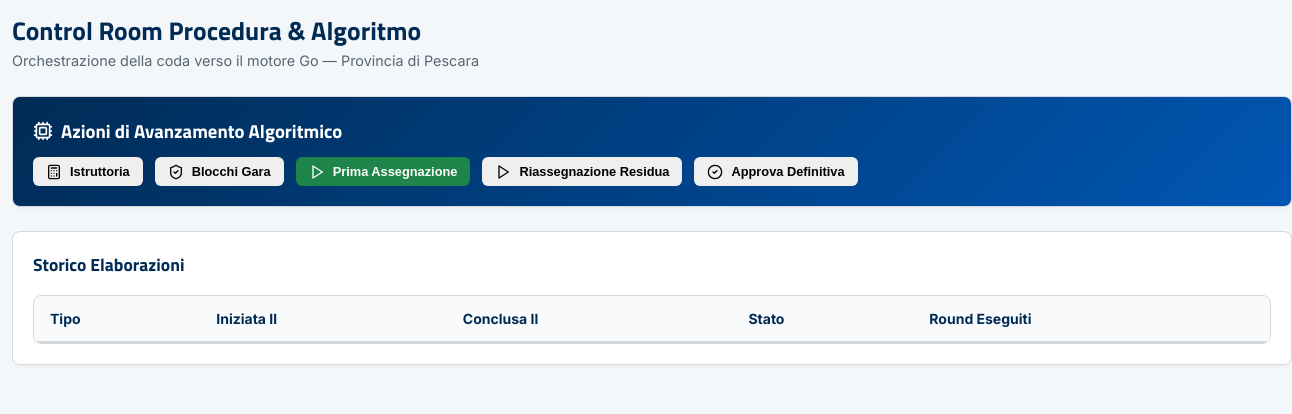
Test: ControlRoomView › esegue istruttoria e mostra il risultato
The image size is (1292, 414).
Click the button "Istruttoria". click: (88, 172)
box: [33, 157, 143, 186]
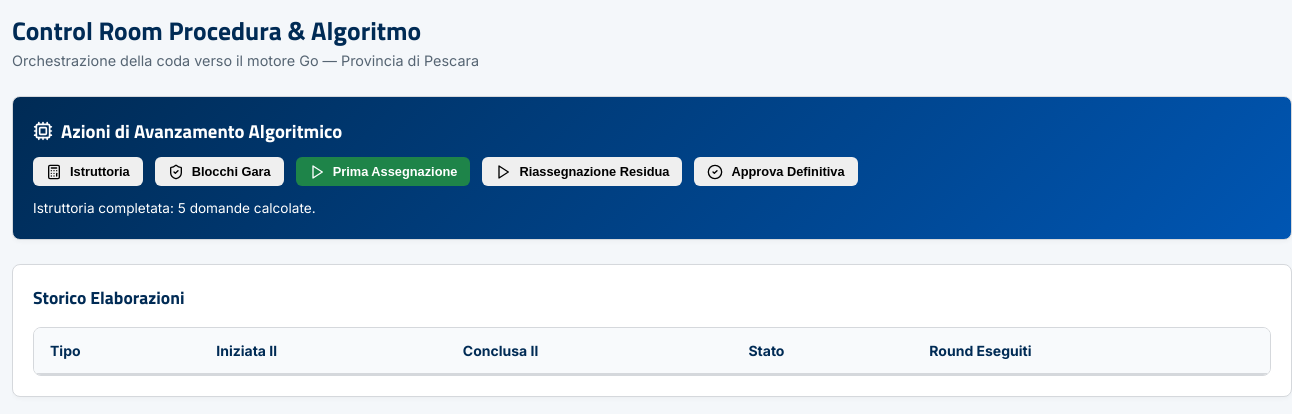
Expected: the text "Istruttoria completata: 5 domande calcolate." is shown, [33, 200, 316, 216]
